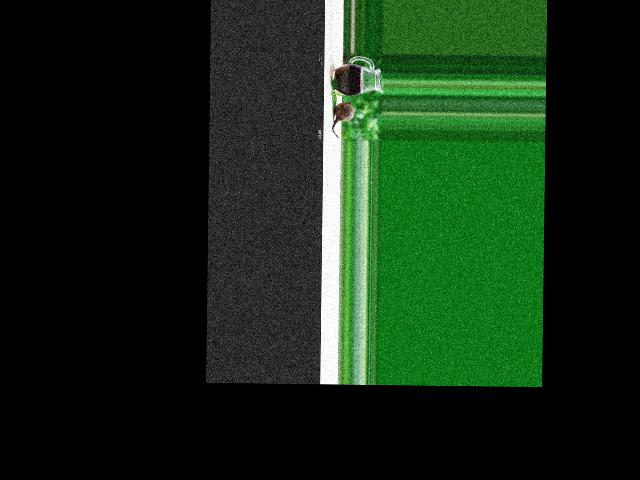beet: (331, 101, 354, 137)
